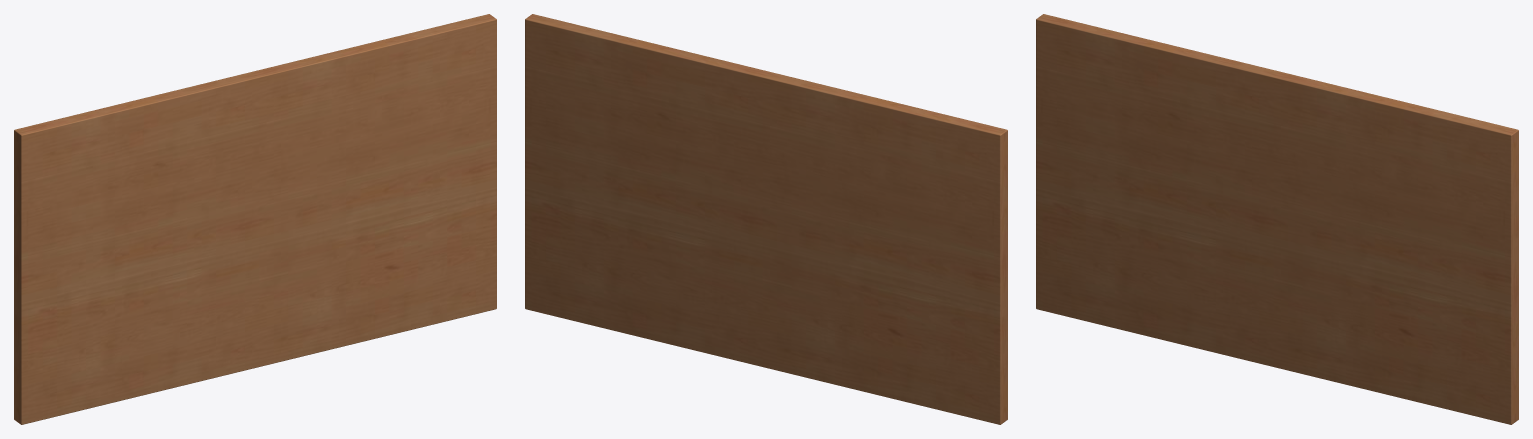
The model's file is SM_Counter_Wall.obj.
The picture shows the model from 3 angles, left to right: view 1: azimuth 30°, elevation 25°; view 2: azimuth 150°, elevation 25°; view 3: azimuth 330°, elevation 25°; orthographic projection.
Parts seen in each view (by area): view 1: SM_Counter_Wall; view 2: SM_Counter_Wall; view 3: SM_Counter_Wall.
Part boxes in pixels (x1,y1,x2,y2): SM_Counter_Wall: [14, 14, 496, 424]; SM_Counter_Wall: [525, 14, 1007, 424]; SM_Counter_Wall: [1036, 14, 1518, 424].
Size of the model in its own units: 1.03 by 0.6 by 0.0288.
